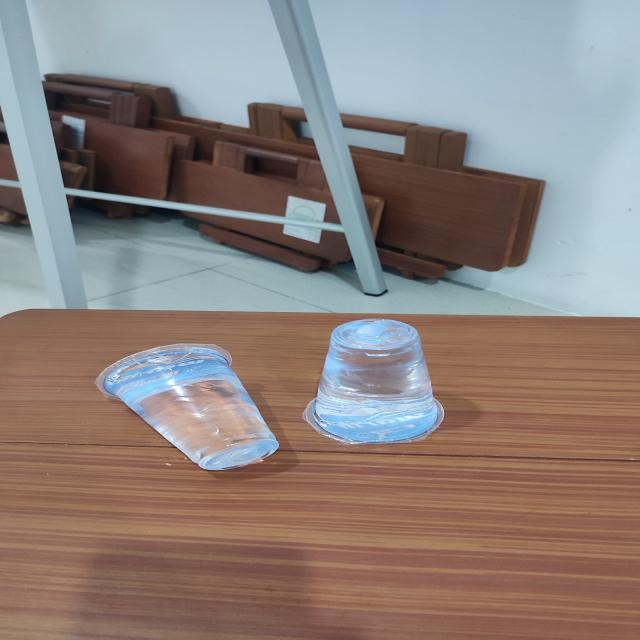air gelas: (83, 337, 290, 478), (293, 312, 450, 447)
